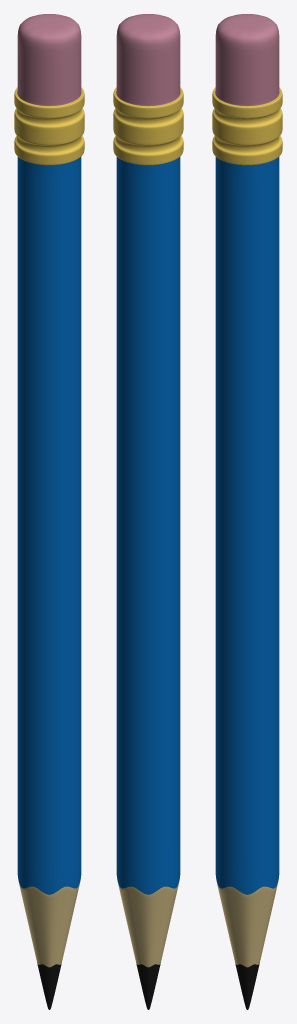
The model's file is Pencil_Smooth (Pivot in the center).fbx.
3 renders of one model, left to right at view 1: azimuth 90°, elevation 25°; view 2: azimuth 150°, elevation 25°; view 3: azimuth 270°, elevation 25°, orthographic.
Visible parts, largest first — view 1: pCylinder1; view 2: pCylinder1; view 3: pCylinder1.
Boxes of the visible parts, box(x1,y1,x2,y2) form: pCylinder1: box(14, 14, 84, 1009); pCylinder1: box(113, 14, 183, 1009); pCylinder1: box(212, 14, 282, 1009).
Bounding box in the file's own units: 1.13 × 17.46 × 1.13.
